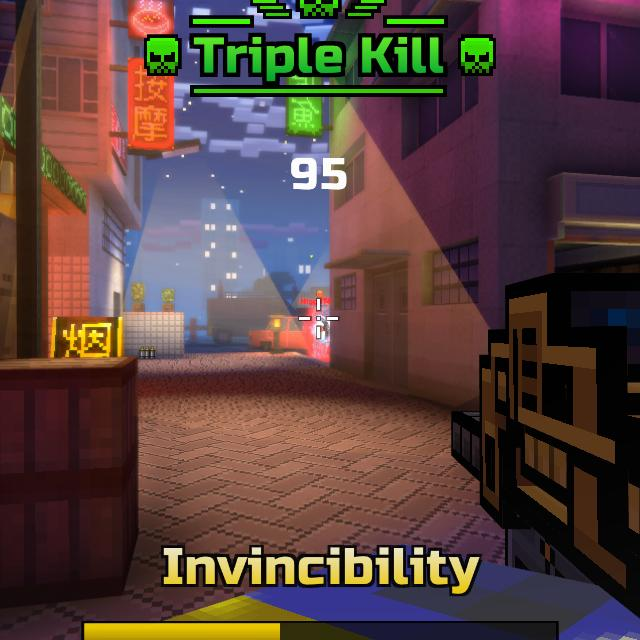Enemy: (309, 306, 329, 355)
